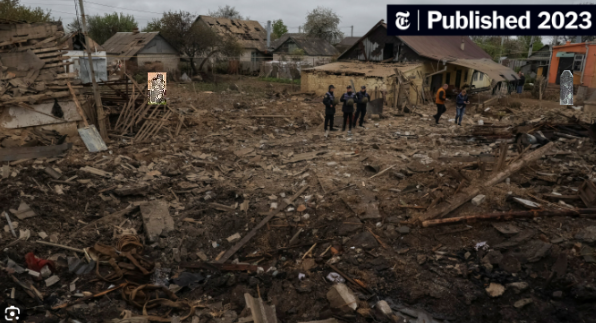HVT1: (560, 70, 573, 104), (152, 73, 165, 103)
